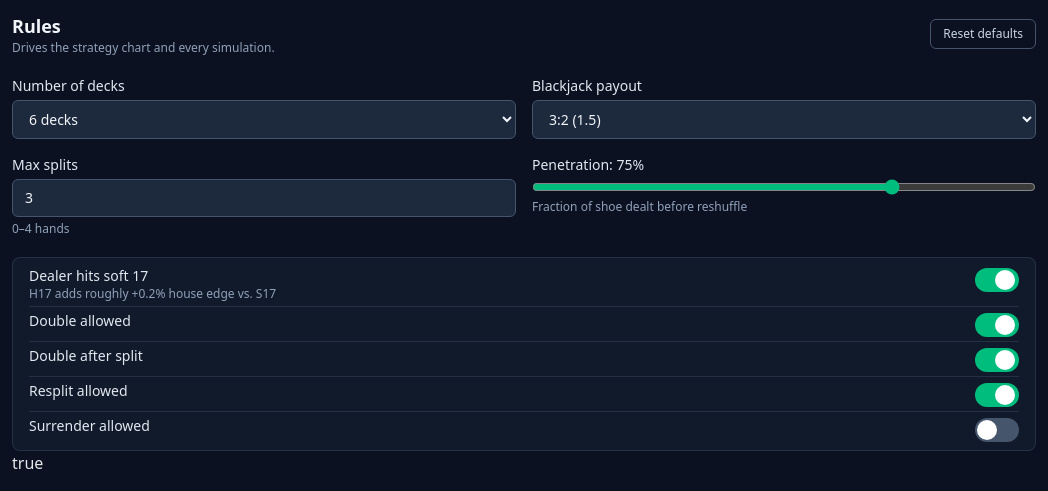
RulesConfigurator › defaults dealer_hits_soft_17 to true and toggles it
Check: the text with test id "h17" reads "true", box [12, 452, 43, 474]
Click the switch named "dealer hits soft 17".
click(997, 280)  # box [975, 268, 1019, 292]
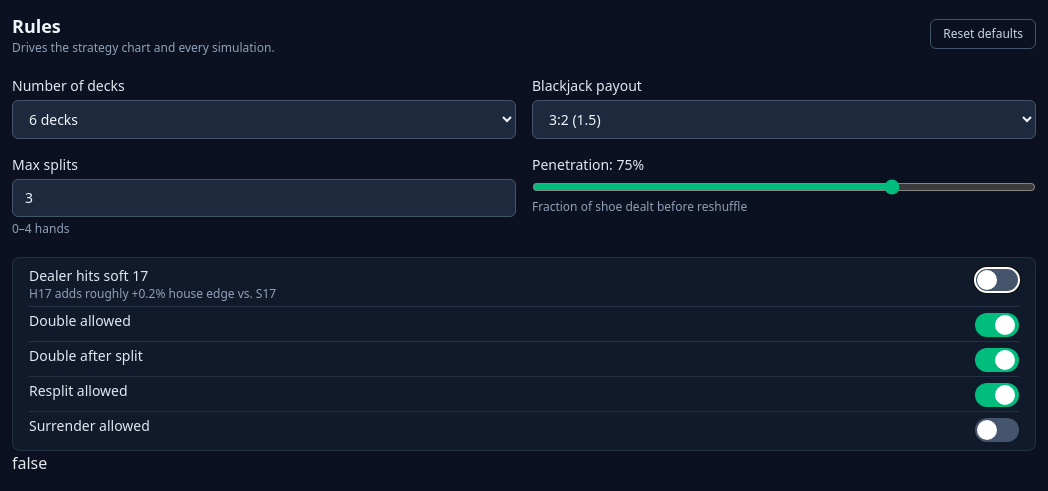
Check: the text with test id "h17" reads "false", box [12, 452, 47, 474]
